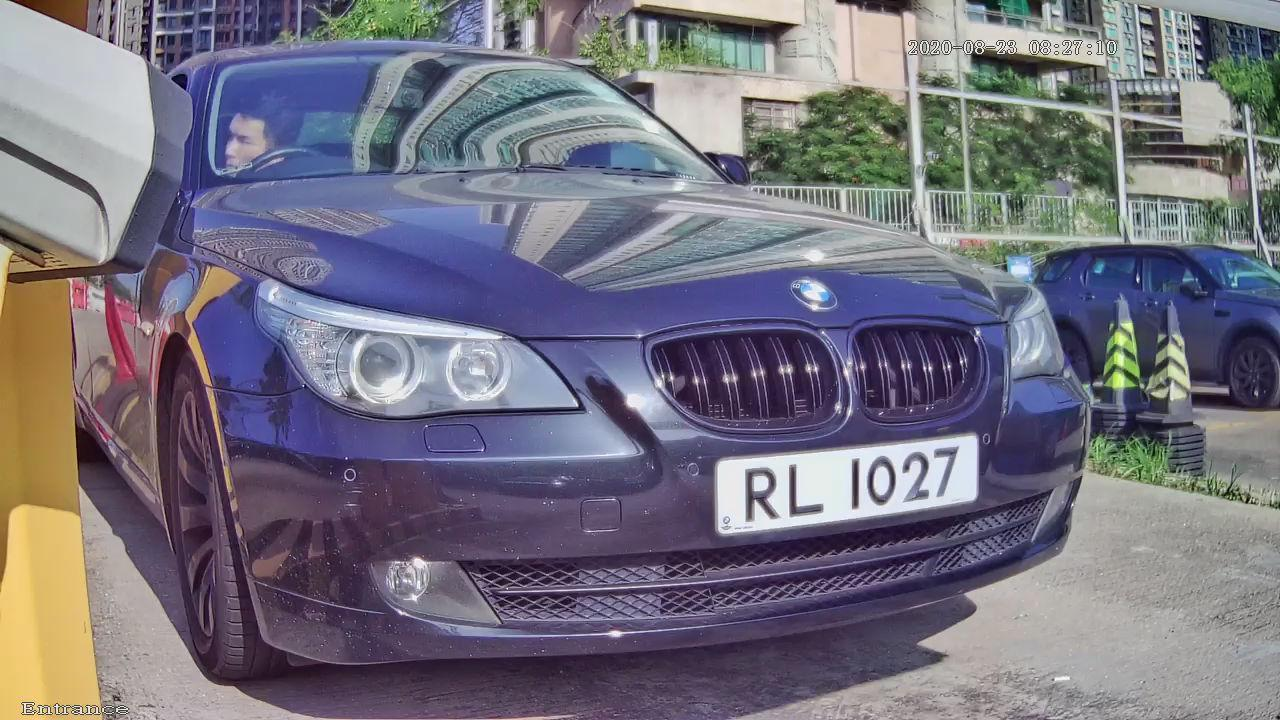Car: (12, 13, 1166, 695)
License Plate: (675, 369, 1027, 573)
